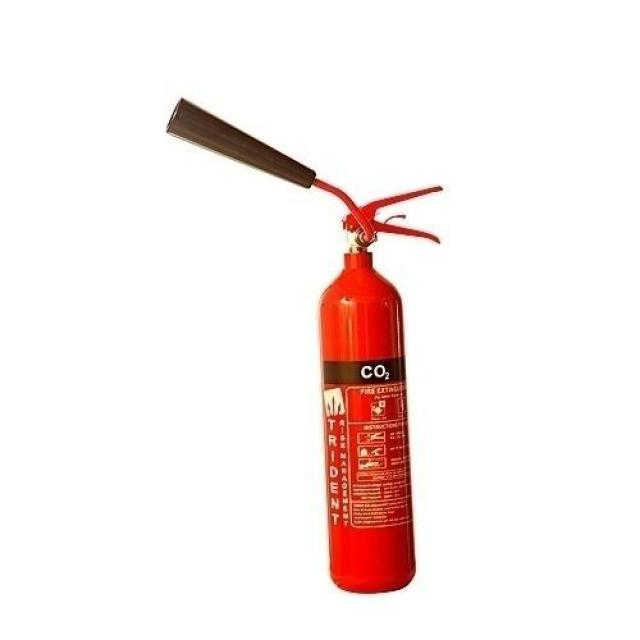fire_extinguisher: (162, 94, 447, 596)
